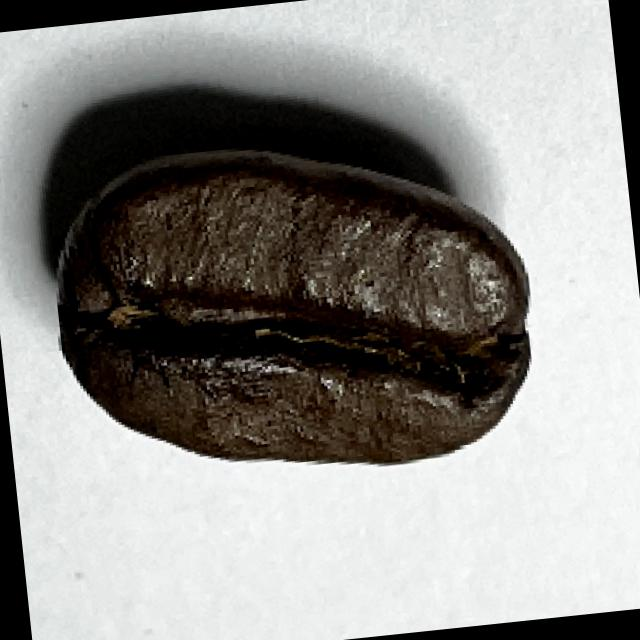bean: (39, 116, 546, 497)
